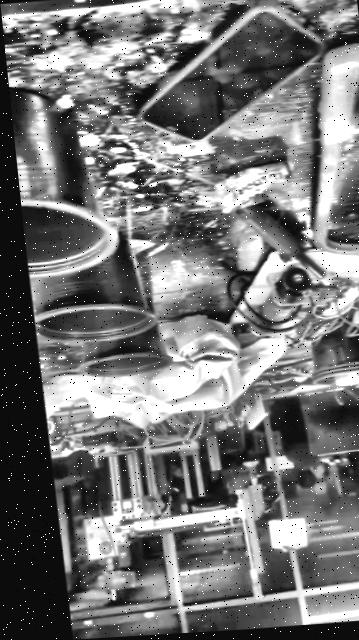pot: (9, 81, 113, 276), (33, 236, 154, 341), (80, 322, 169, 376), (301, 325, 359, 379)
